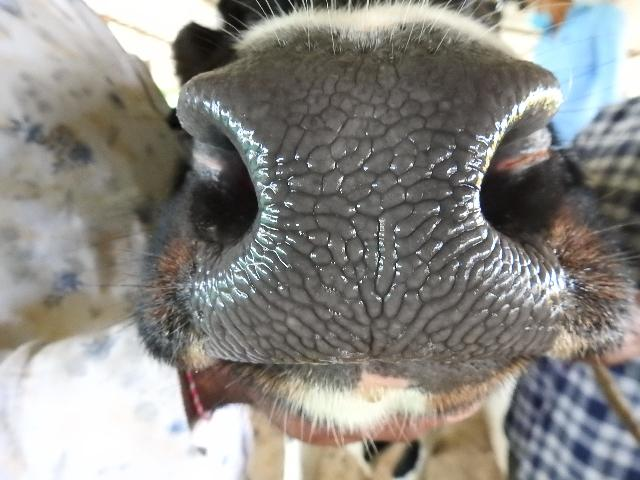Muzzle: (236, 77, 497, 345)
